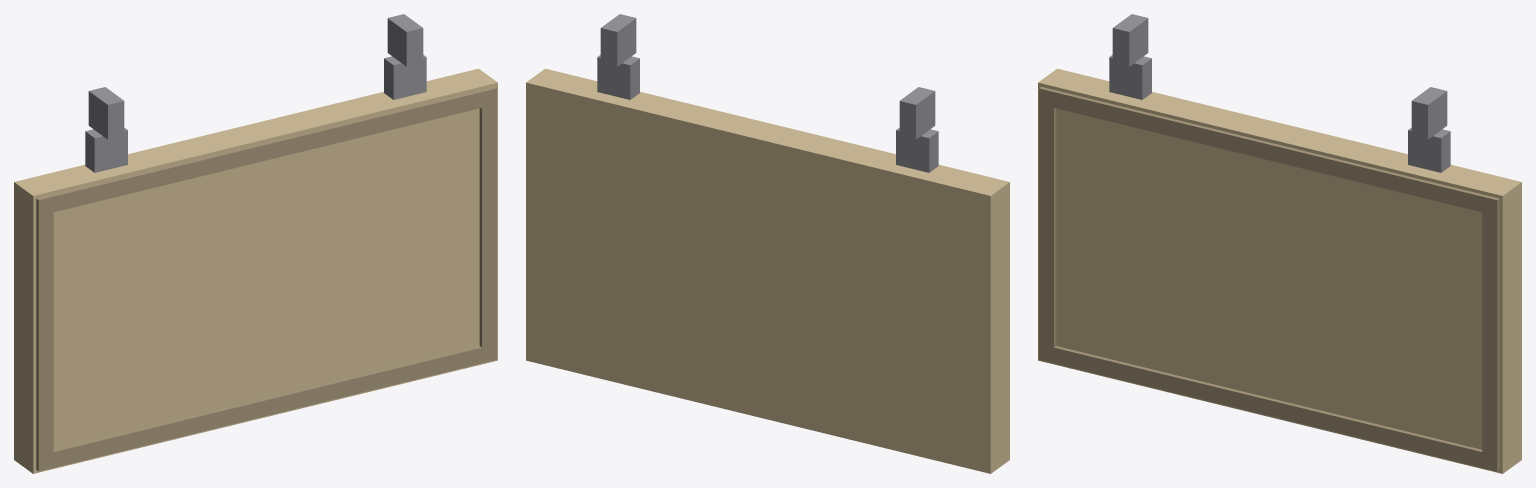
Rendered from sign_oak_hang.gltf.
3 views of the same model, side by side, from view 1: azimuth 30°, elevation 25°; view 2: azimuth 150°, elevation 25°; view 3: azimuth 330°, elevation 25° (orthographic).
Visible parts, largest first — view 1: sign_oak_hang; view 2: sign_oak_hang; view 3: sign_oak_hang.
Boxes of the visible parts, box(x1,y1,x2,y2) form: sign_oak_hang: box(14, 14, 497, 473); sign_oak_hang: box(526, 14, 1009, 473); sign_oak_hang: box(1038, 14, 1521, 473).
Bounding box in the file's own units: 0.875 × 0.631 × 0.07.
